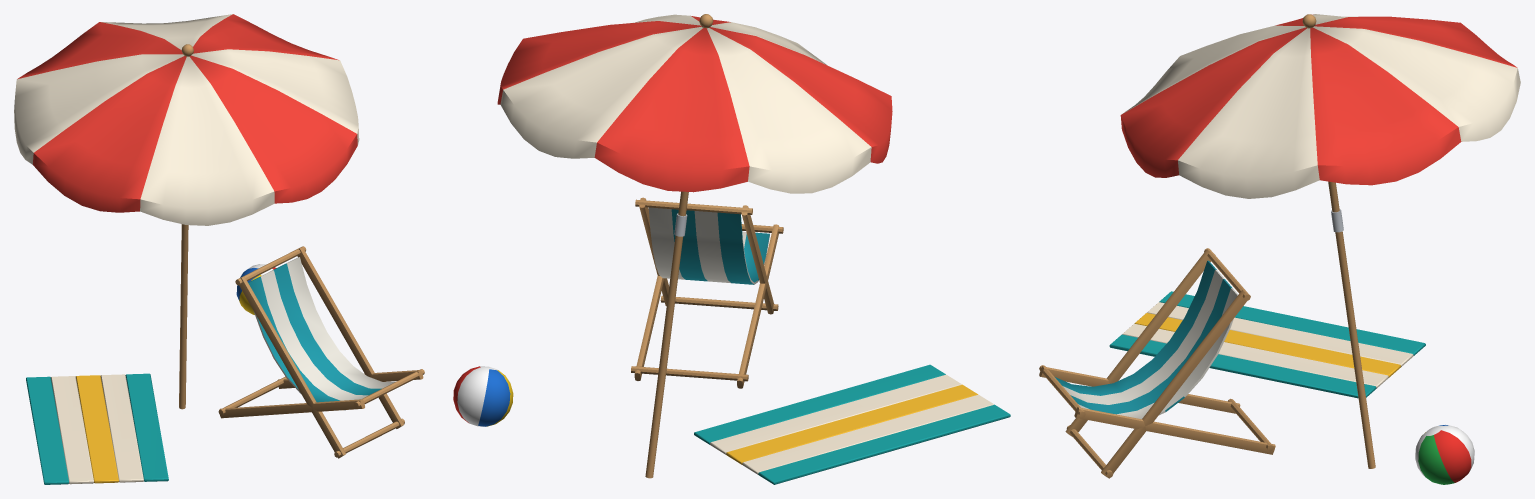
The model's file is beach_umbrella.glb.
3 views of the same model, side by side, from view 1: azimuth 30°, elevation 25°; view 2: azimuth 150°, elevation 25°; view 3: azimuth 270°, elevation 25° (orthographic). The views are drawn at different scales.
Parts seen in each view (by area): view 1: beach_umbrella; view 2: beach_umbrella; view 3: beach_umbrella.
Part boxes in pixels (box(x1,y1,x2,y2)): beach_umbrella: box(14, 14, 424, 484); beach_umbrella: box(453, 14, 1010, 484); beach_umbrella: box(1039, 14, 1520, 484).
Bounding box in the file's own units: 2.68 × 2.75 × 2.72.
